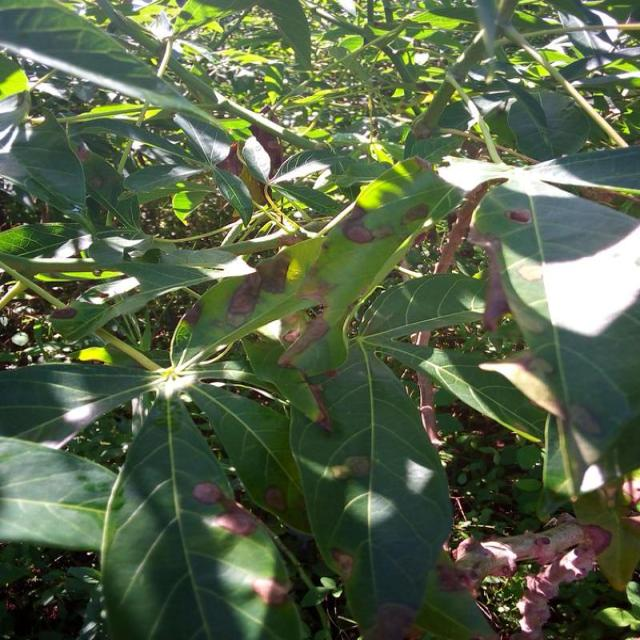cassava leaf: (2, 0, 639, 638), (472, 172, 640, 509), (99, 391, 305, 638), (289, 336, 455, 636)
